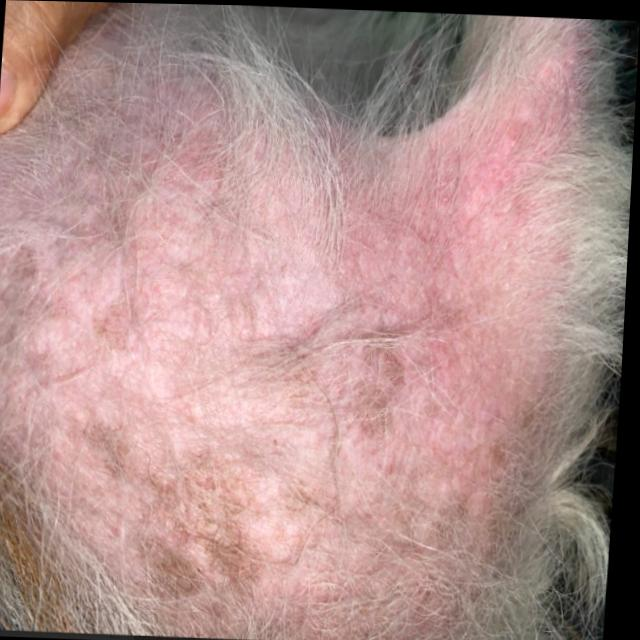demodicosis: (29, 121, 595, 596)
